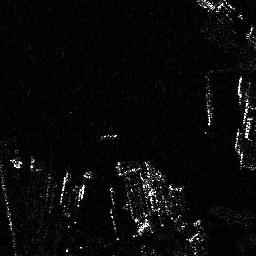ship: (204, 75, 215, 127)
